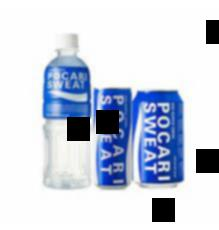pocarisweat: (39, 30, 96, 190)
